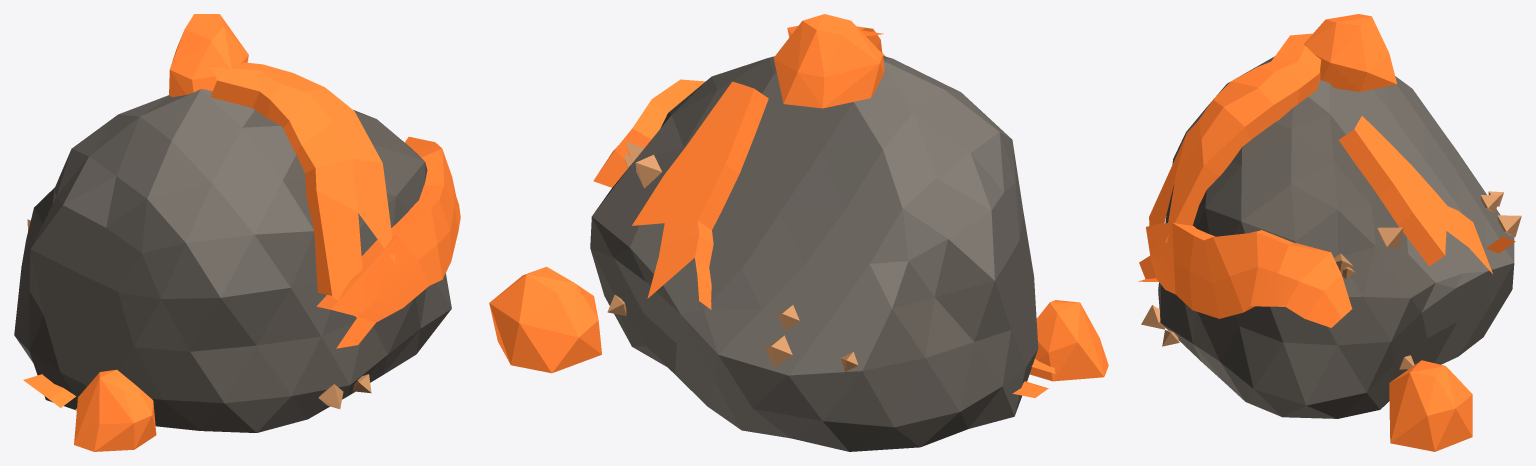
Rendered from resource_ferrite.glb.
The picture shows the model from 3 angles, left to right: view 1: azimuth 30°, elevation 25°; view 2: azimuth 150°, elevation 25°; view 3: azimuth 270°, elevation 25°; orthographic projection. The views are drawn at different scales.
Visible parts, largest first — view 1: Body; view 2: Body; view 3: Body.
Part boxes in pixels (left/top/right/bottom): Body: left=14, top=14, right=460, bottom=451; Body: left=489, top=14, right=1108, bottom=451; Body: left=1138, top=14, right=1521, bottom=451.
Bounding box in the file's own units: 1.83 × 1.29 × 1.4.
